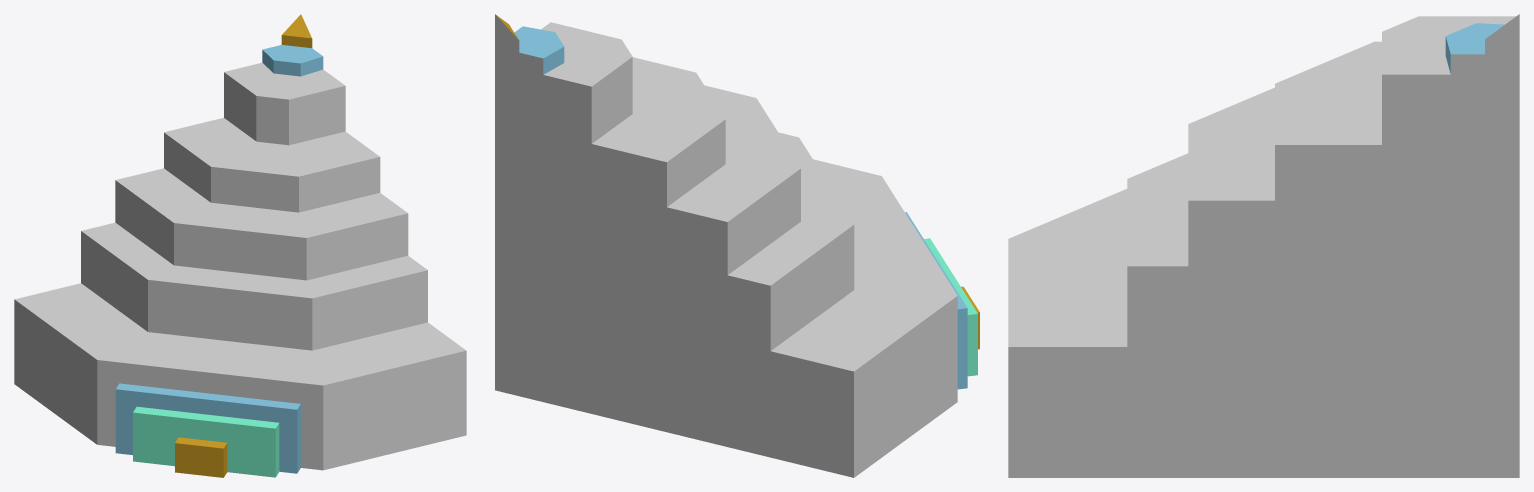
Rendered from Prop_Building_Eastern_Ornamental_Block_Corner_01.FBX.
3 renders of one model, left to right at view 1: azimuth 30°, elevation 25°; view 2: azimuth 150°, elevation 25°; view 3: azimuth 270°, elevation 25°, orthographic. The views are drawn at different scales.
Visible parts, largest first — view 1: Prop_Building_Eastern_Ornamental_Block_Corner_01; view 2: Prop_Building_Eastern_Ornamental_Block_Corner_01; view 3: Prop_Building_Eastern_Ornamental_Block_Corner_01.
Part boxes in pixels (left/top/right/bottom): Prop_Building_Eastern_Ornamental_Block_Corner_01: left=14, top=14, right=466, bottom=477; Prop_Building_Eastern_Ornamental_Block_Corner_01: left=495, top=14, right=979, bottom=477; Prop_Building_Eastern_Ornamental_Block_Corner_01: left=1008, top=14, right=1519, bottom=477.
Bounding box in the file's own units: 2641 × 2645 × 2641.
